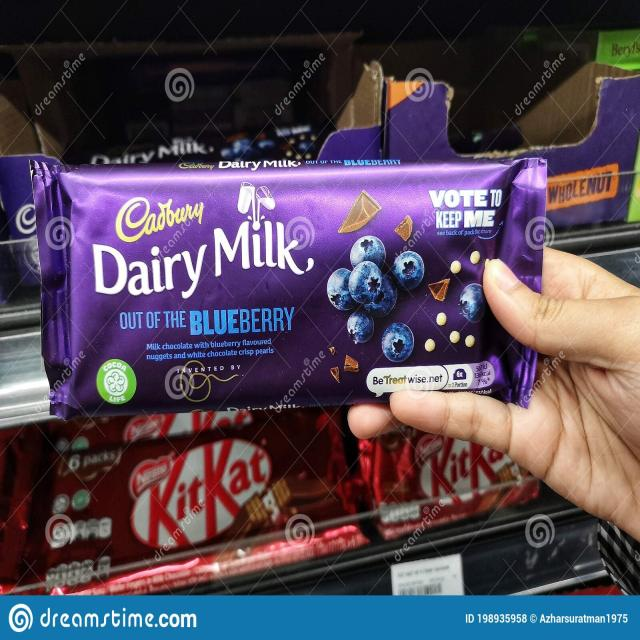cadbury: (35, 160, 543, 409)
